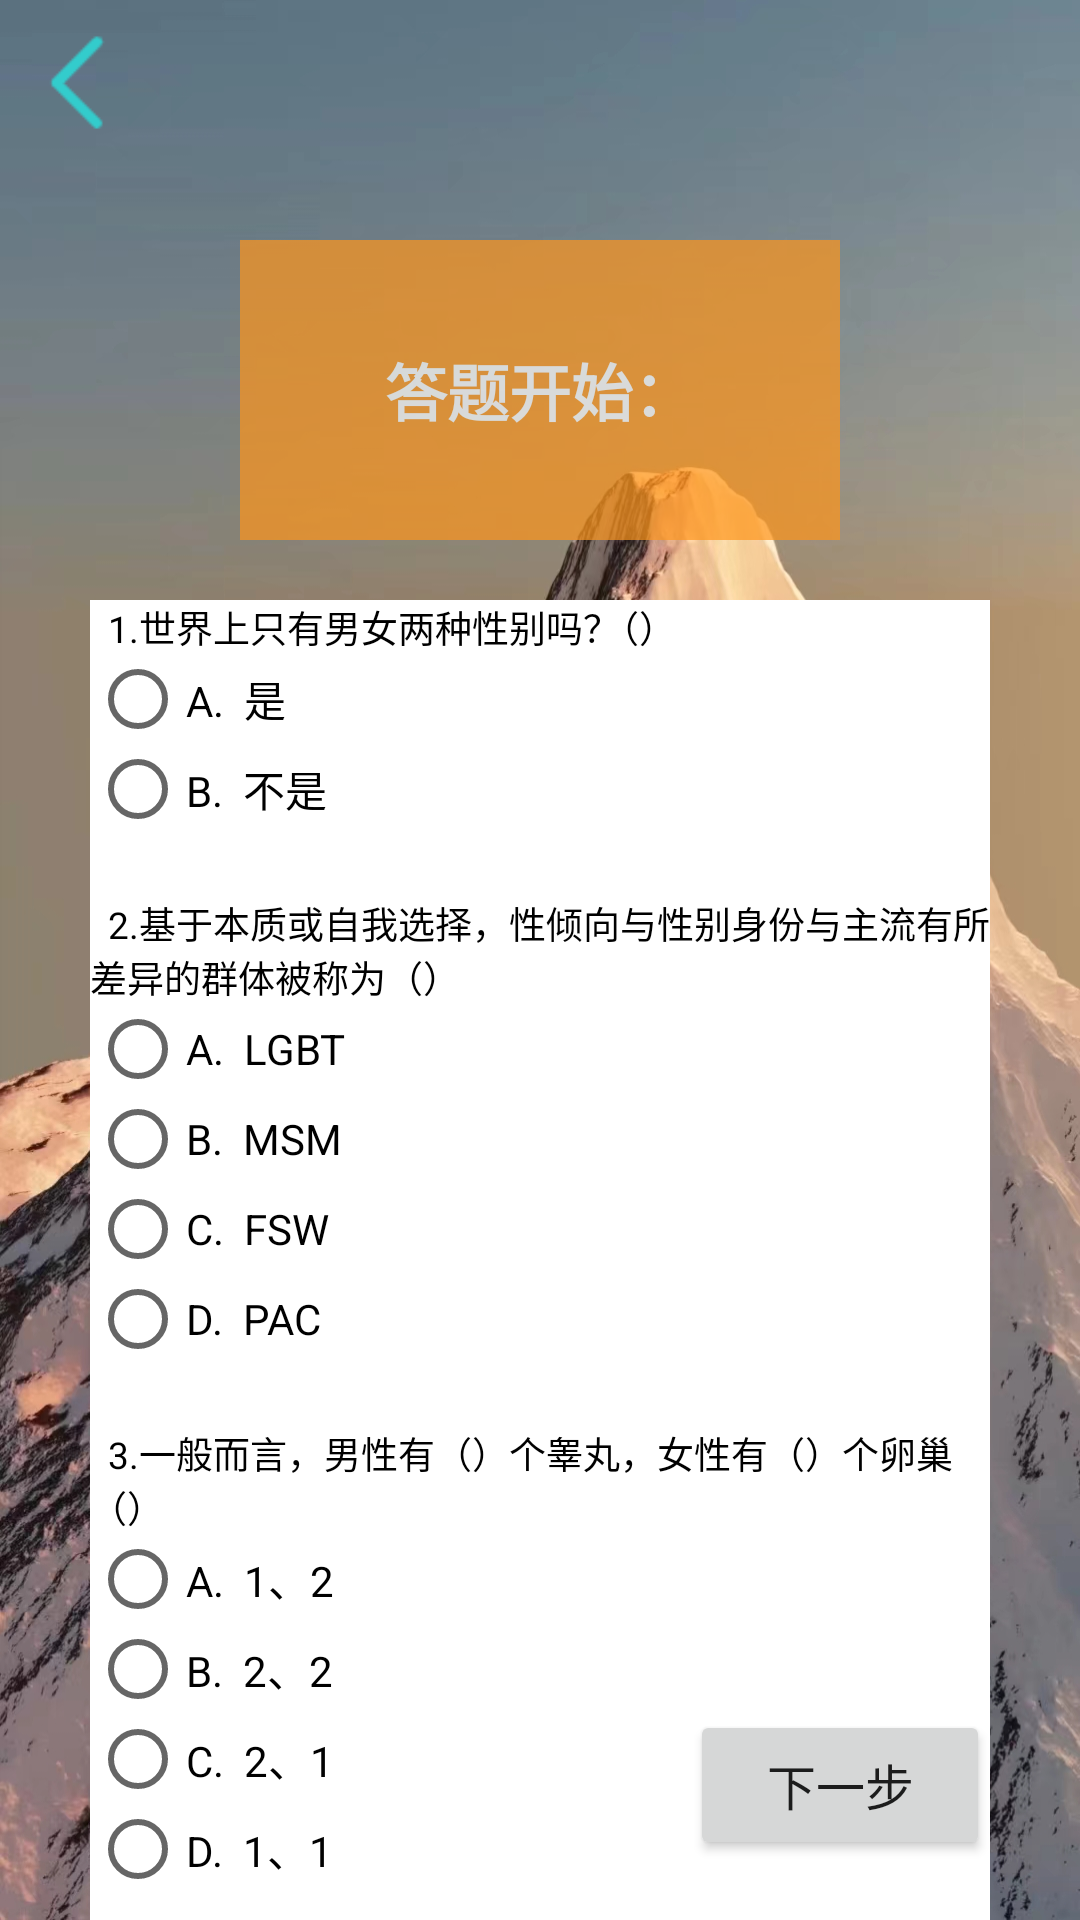

Named icons in this screenshot (1080w x 1920h) and their centers, point (x, y):
back: point (77, 82)
